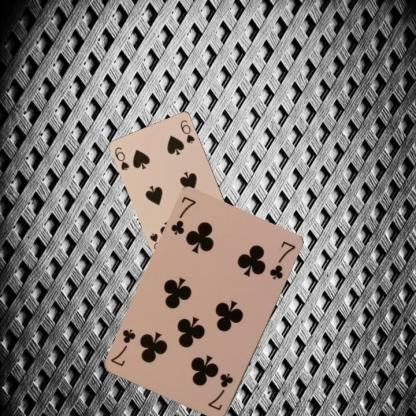6s: (113, 145, 130, 172)
7c: (168, 194, 198, 237), (205, 370, 235, 412)
